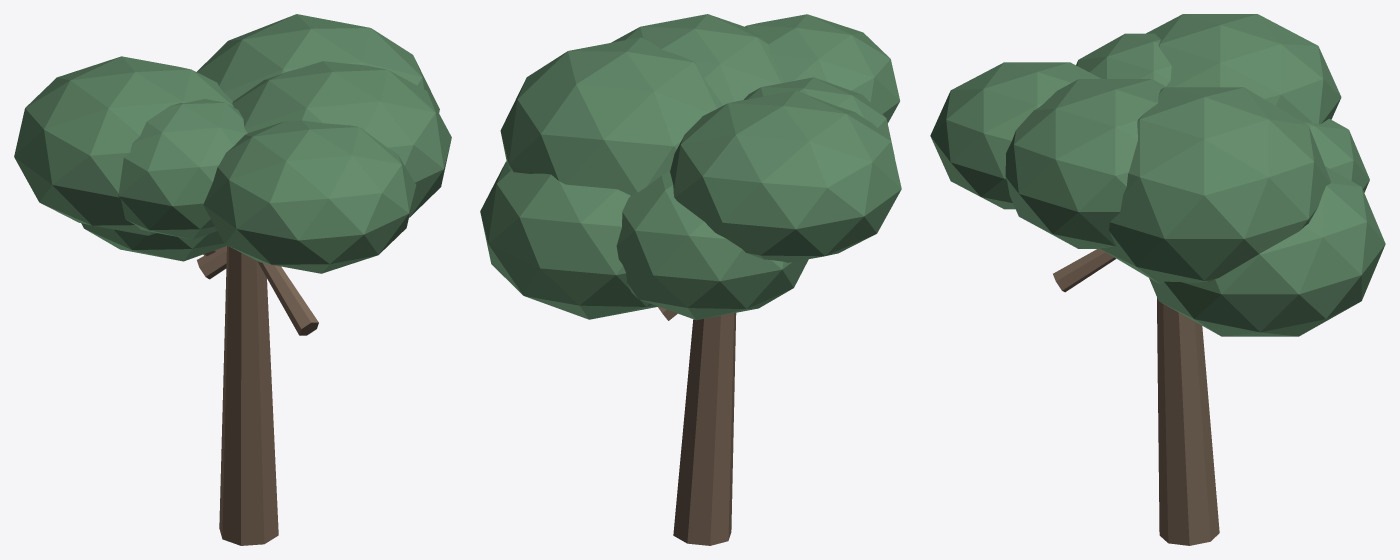
The model's file is arvore.glb.
3 views of the same model, side by side, from view 1: azimuth 30°, elevation 25°; view 2: azimuth 150°, elevation 25°; view 3: azimuth 270°, elevation 25° (orthographic). The views are drawn at different scales.
Visible parts, largest first — view 1: copa_5, copa_3, tronco, copa_6, copa_4, copa_0, copa_2, galho_2, galho_0; view 2: copa_3, copa_0, copa_1, copa_2, tronco, copa_5, copa_6, copa_4; view 3: copa_0, copa_1, copa_6, copa_3, tronco, copa_5, copa_4, copa_2, galho_2.
Boxes of the visible parts, bbox=[...] form: copa_5: bbox=[203, 120, 416, 273]; copa_3: bbox=[14, 56, 233, 235]; tronco: bbox=[219, 245, 278, 545]; copa_6: bbox=[232, 61, 451, 217]; copa_4: bbox=[118, 99, 247, 239]; copa_0: bbox=[197, 14, 439, 112]; copa_2: bbox=[81, 223, 226, 261]; galho_2: bbox=[257, 261, 318, 335]; galho_0: bbox=[197, 246, 226, 279]; copa_3: bbox=[670, 90, 901, 262]; copa_0: bbox=[500, 37, 722, 195]; copa_1: bbox=[480, 161, 657, 319]; copa_2: bbox=[616, 172, 808, 320]; tronco: bbox=[673, 313, 736, 545]; copa_5: bbox=[744, 14, 899, 123]; copa_6: bbox=[611, 14, 784, 105]; copa_4: bbox=[744, 77, 894, 157]; copa_0: bbox=[1100, 87, 1330, 284]; copa_1: bbox=[1149, 166, 1385, 336]; copa_6: bbox=[1005, 79, 1166, 248]; copa_3: bbox=[1146, 14, 1341, 124]; tronco: bbox=[1157, 298, 1219, 545]; copa_5: bbox=[930, 62, 1101, 209]; copa_4: bbox=[1076, 33, 1171, 86]; copa_2: bbox=[1304, 118, 1369, 192]; galho_2: bbox=[1053, 249, 1116, 292].
Size of the model in its own units: 3.69 by 4.5 by 3.93.
